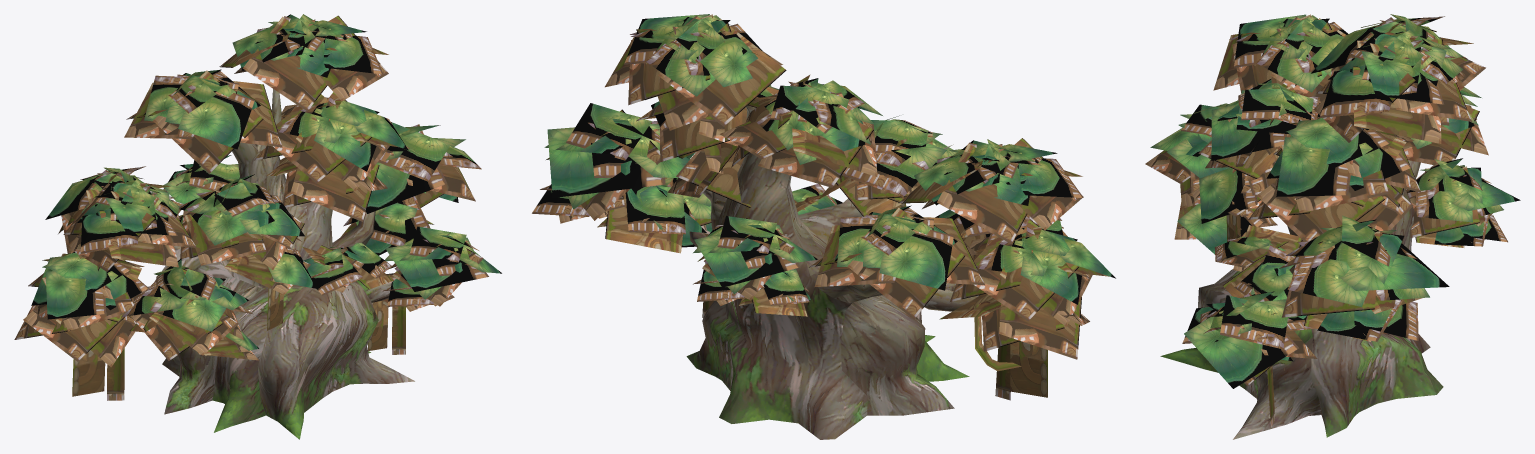
File: Map_08_tree02.FBX
3 views of the same model, side by side, from view 1: azimuth 30°, elevation 25°; view 2: azimuth 150°, elevation 25°; view 3: azimuth 270°, elevation 25° (orthographic). The views are drawn at different scales.
Visible parts, largest first — view 1: Map_08_tree02a, Map_08_tree02b; view 2: Map_08_tree02a, Map_08_tree02b; view 3: Map_08_tree02a, Map_08_tree02b.
Boxes of the visible parts, left/top/right/bottom form: Map_08_tree02a: left=14, top=14, right=501, bottom=400; Map_08_tree02b: left=154, top=89, right=449, bottom=439; Map_08_tree02a: left=532, top=14, right=1115, bottom=400; Map_08_tree02b: left=686, top=105, right=979, bottom=439; Map_08_tree02a: left=1145, top=14, right=1520, bottom=427; Map_08_tree02b: left=1160, top=80, right=1443, bottom=439.
Bounding box in the file's own units: 1309 × 804 × 888.
